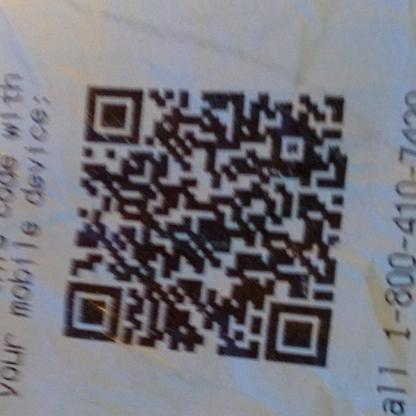qr: (61, 77, 352, 372)
